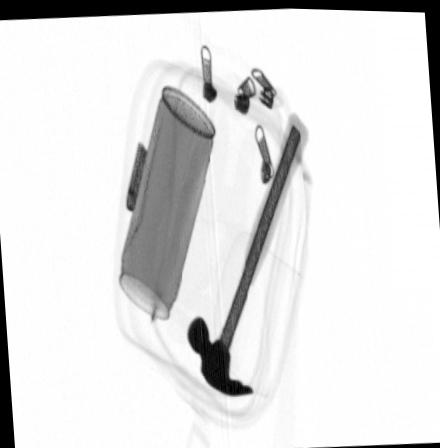Hammer: (186, 108, 310, 397)
